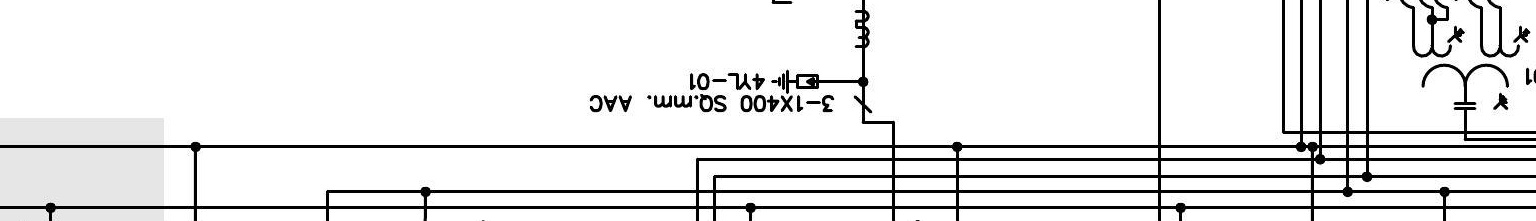115_cvt_3p: (1411, 25, 1531, 110)
115_la: (770, 69, 819, 95)
